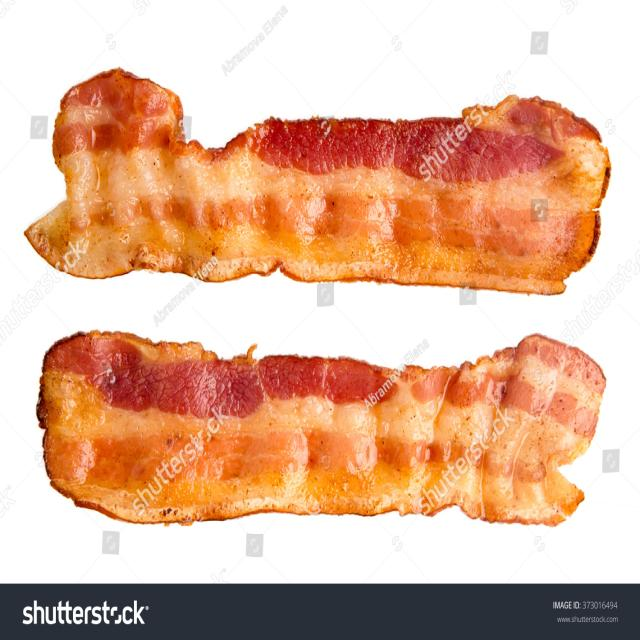Bacon: (25, 69, 610, 294), (38, 332, 605, 525)
